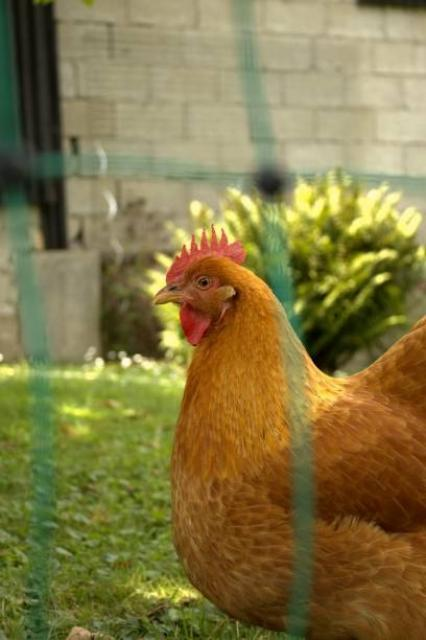Chicken: (151, 222, 426, 640)
